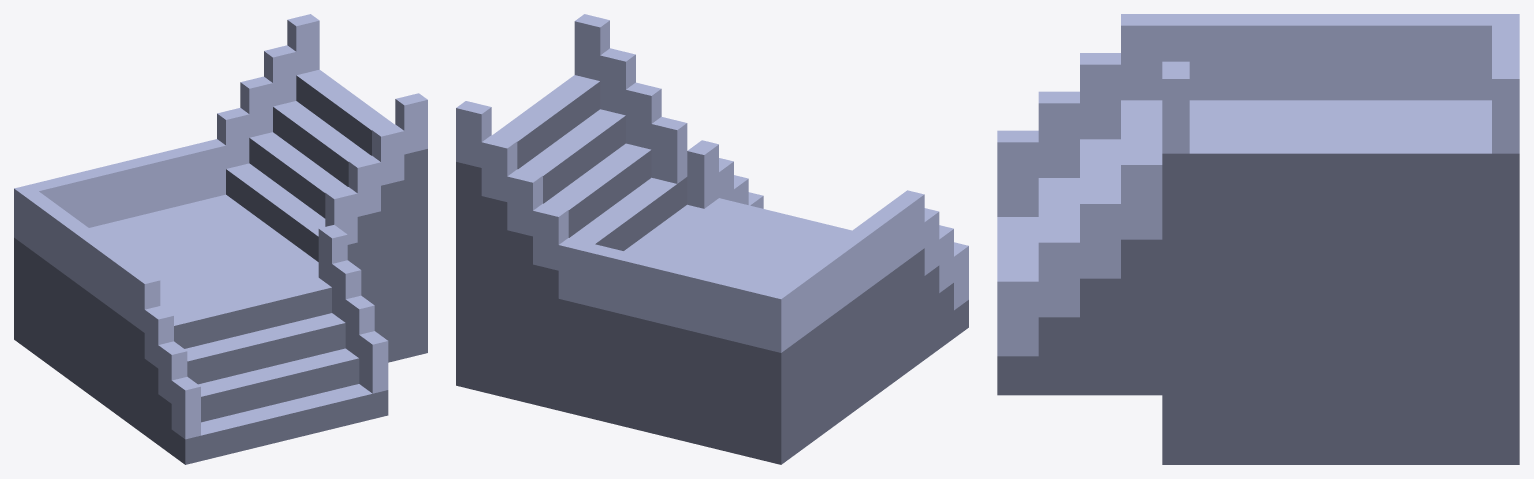
The model's file is footbridge-stair-right.glb.
The picture shows the model from 3 angles, left to right: view 1: azimuth 30°, elevation 25°; view 2: azimuth 150°, elevation 25°; view 3: azimuth 270°, elevation 25°; orthographic projection. The views are drawn at different scales.
Visible parts, largest first — view 1: footbridge-stair-right; view 2: footbridge-stair-right; view 3: footbridge-stair-right.
Boxes of the visible parts, x1=… form: footbridge-stair-right: x1=14, y1=14, x2=427, y2=464; footbridge-stair-right: x1=456, y1=14, x2=968, y2=464; footbridge-stair-right: x1=997, y1=14, x2=1519, y2=464.
Bounding box in the file's own units: 0.76 × 0.62 × 0.76.
Materials: 1 (1 with a texture image).
